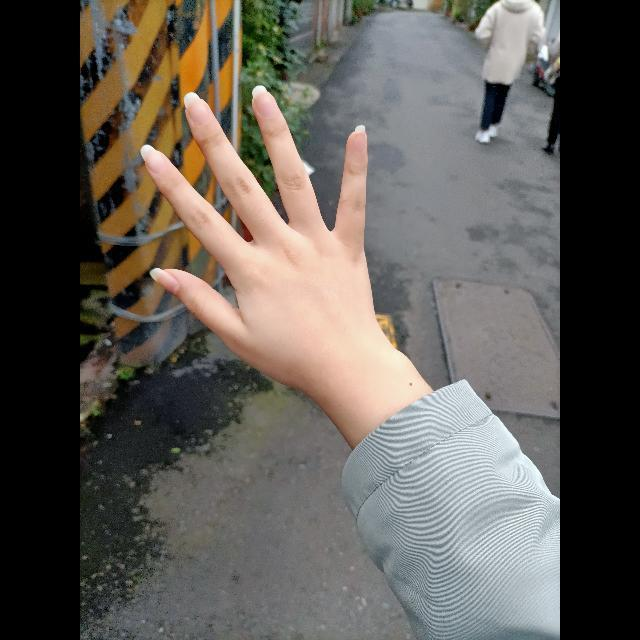bare_hand: (140, 82, 375, 374)
